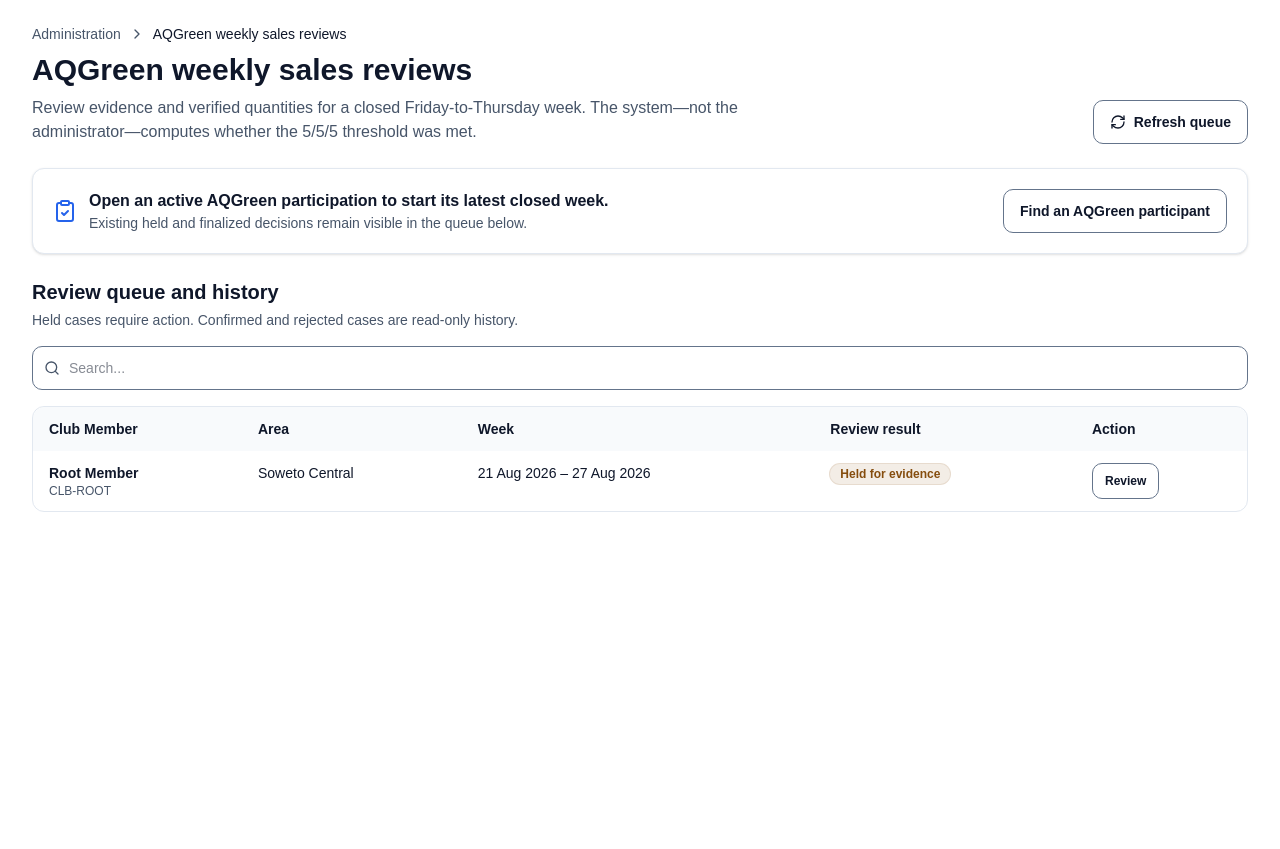
Test case: AdminWeeklySalesReviews › rejects evidence with a reason and renders the immutable rejected result
This screenshot has width=1280, height=849.
Expected: the text "Root Member" is shown, 49,465 -> 138,481
Click the button "Review" at (1126, 481), box 1092,463 -> 1159,499
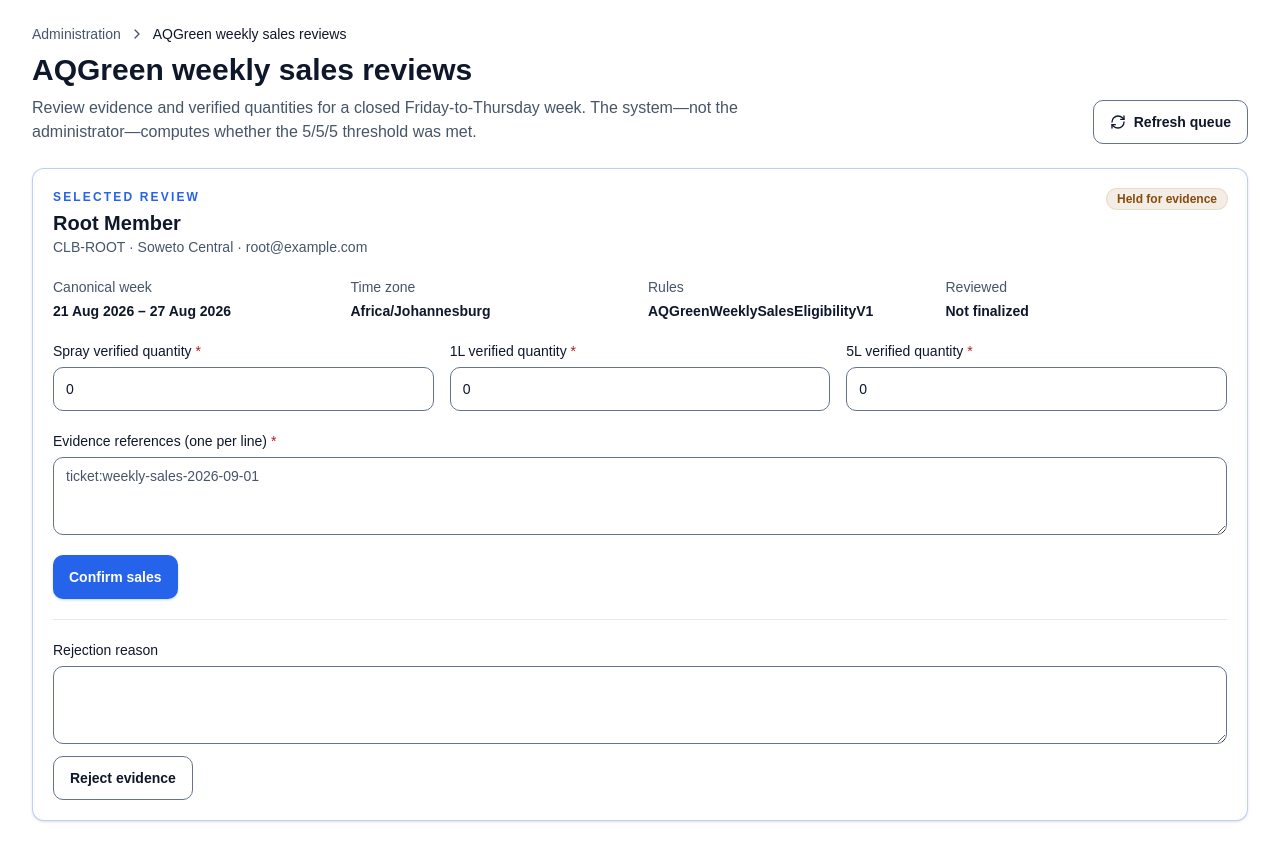
Type "ticket:unreadable-receipt" into the text box labelled "Evidence references (one per line)" at (640, 496), box 53,457 -> 1227,535
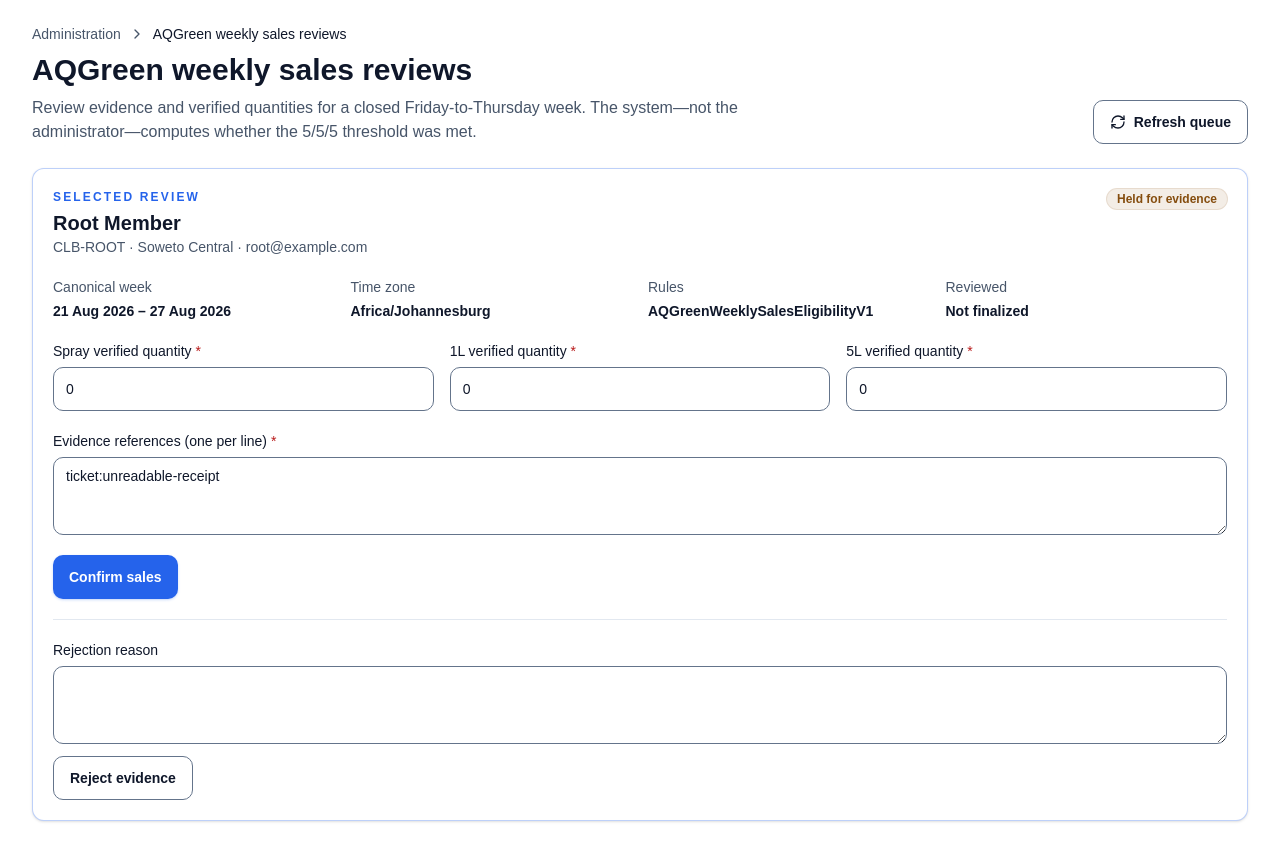
Type "Receipt is unreadable" into the text box labelled "Rejection reason" at (640, 705), box 53,666 -> 1227,744
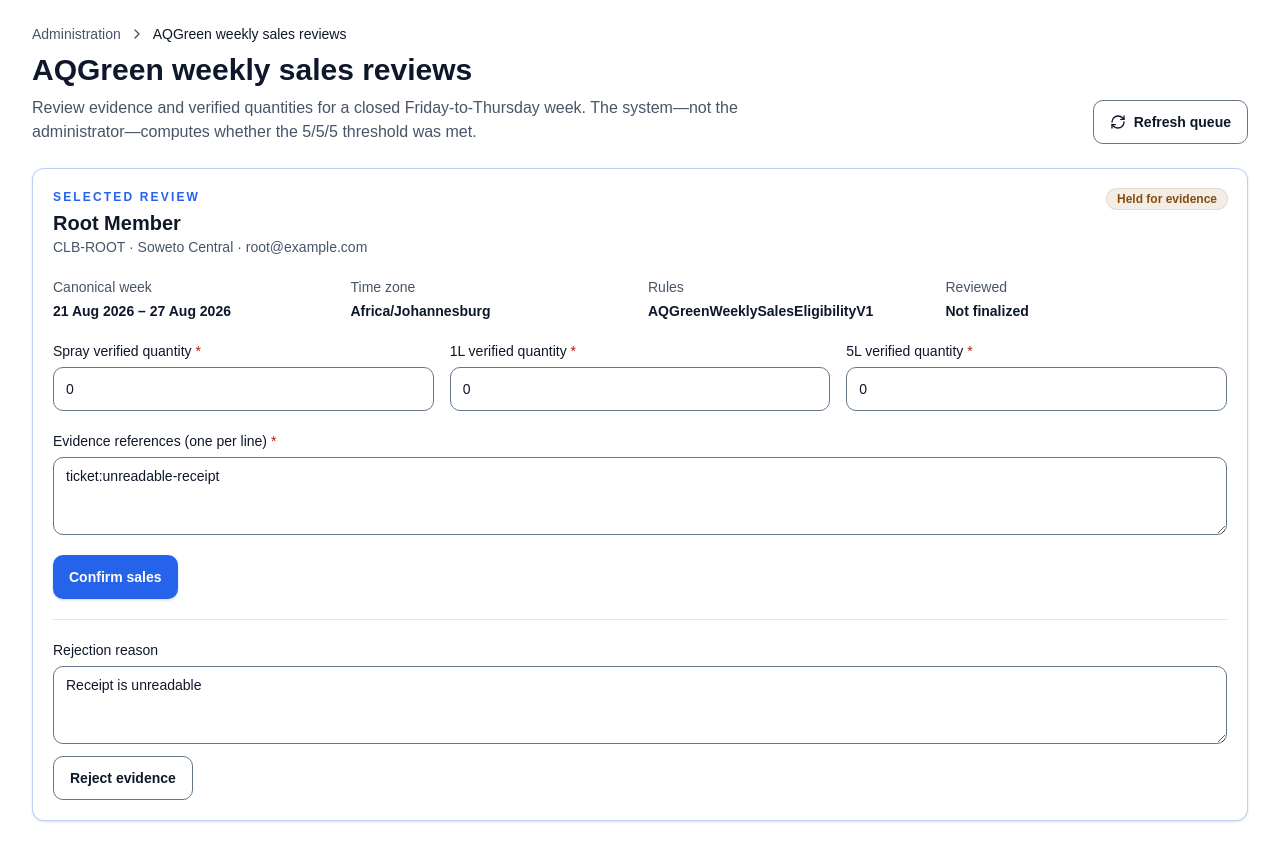
Click the button "Reject evidence" at (123, 778), box 53,756 -> 193,800
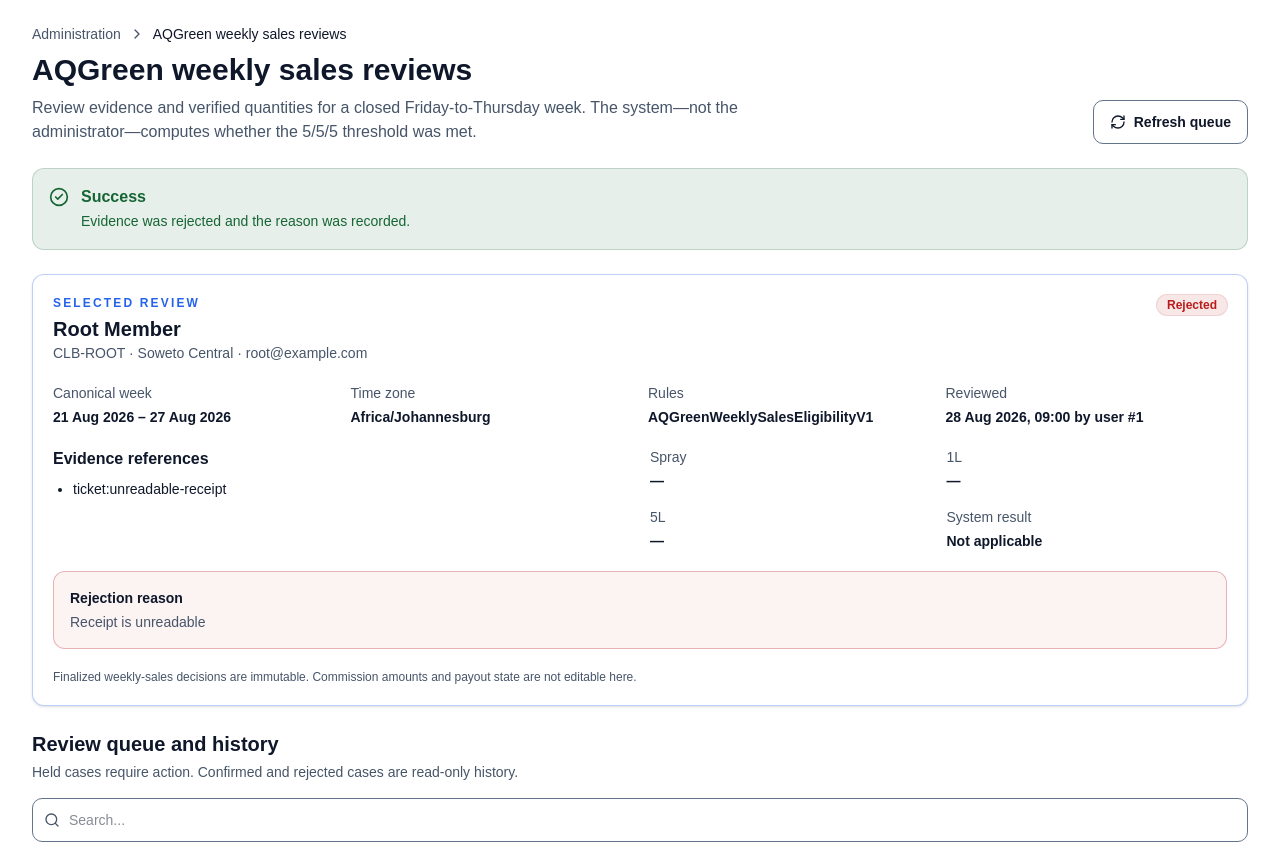
Now the text "Rejected" is shown, box 1157,295 -> 1227,315
Now the text "Receipt is unreadable" is shown, box 70,614 -> 205,630
